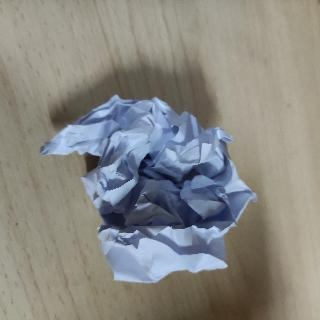8/可回收垃圾/纸: (39, 93, 256, 283)
